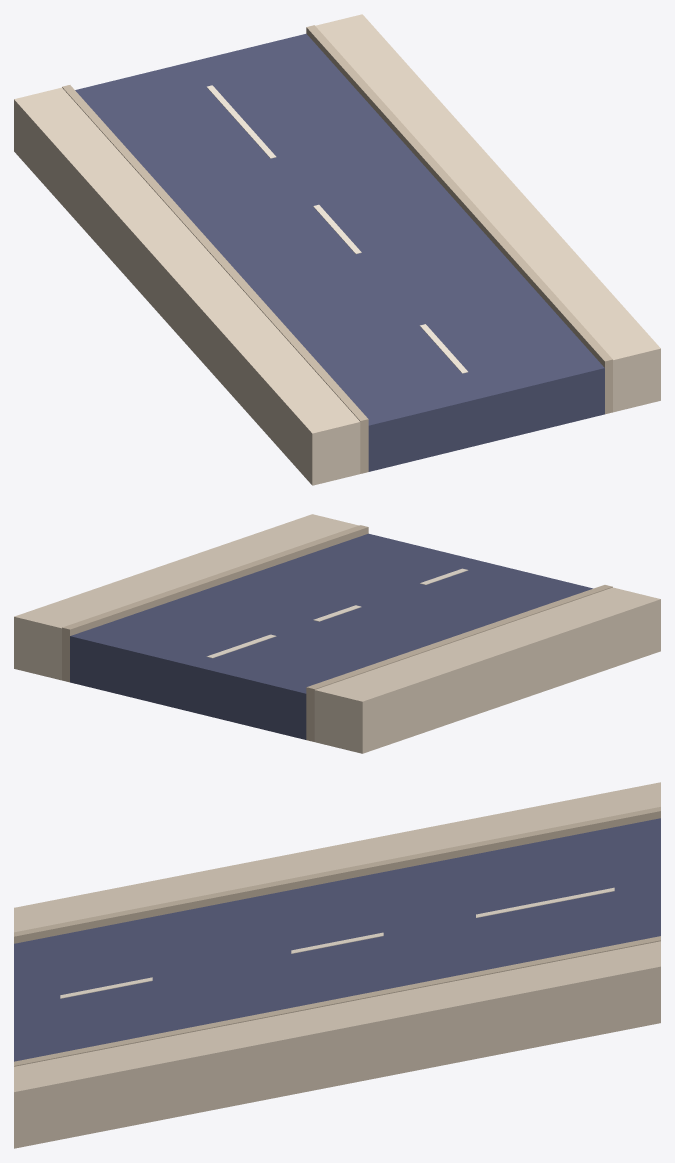
The model's file is road_slope.glb.
The picture shows the model from 3 angles, top to bottom: view 1: azimuth 30°, elevation 25°; view 2: azimuth 150°, elevation 25°; view 3: azimuth 270°, elevation 25°; orthographic projection. The views are drawn at different scales.
Parts seen in each view (by area): view 1: road_slope; view 2: road_slope; view 3: road_slope.
Part boxes in pixels (<box>): road_slope: <box>14,14,660,485</box>; road_slope: <box>14,514,660,753</box>; road_slope: <box>14,782,660,1148</box>.
Bounding box in the file's own units: 9.44 × 4.37 × 14.
